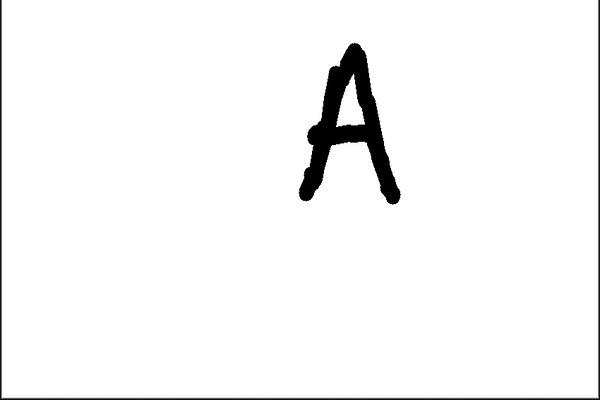A: (293, 38, 401, 211)
